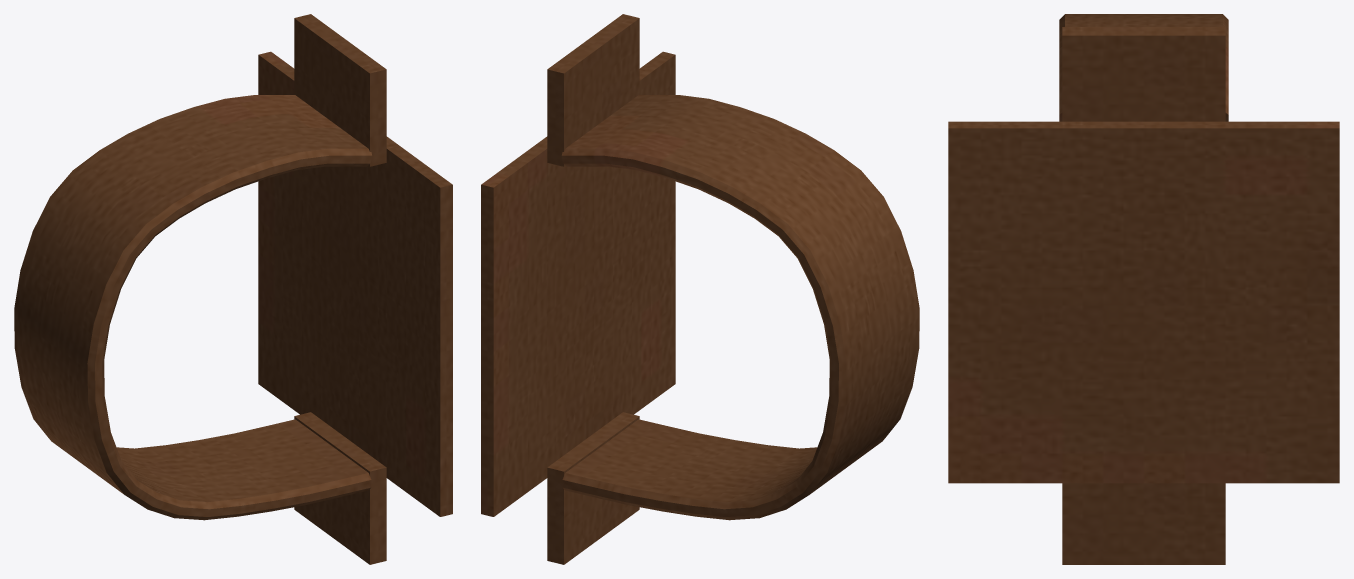
File: pistol_sling_loop.glb
The picture shows the model from 3 angles, left to right: view 1: azimuth 30°, elevation 25°; view 2: azimuth 150°, elevation 25°; view 3: azimuth 270°, elevation 25°; orthographic projection. The views are drawn at different scales.
Parts seen in each view (by area): view 1: PistolLoop; view 2: PistolLoop; view 3: PistolLoop.
Boxes of the visible parts, <box> form: PistolLoop: <box>14,14,452,564</box>; PistolLoop: <box>481,14,919,564</box>; PistolLoop: <box>948,14,1339,564</box>.
Bounding box in the file's own units: 0.0593 × 0.0895 × 0.06.
Materials: 1 (1 with a texture image).
